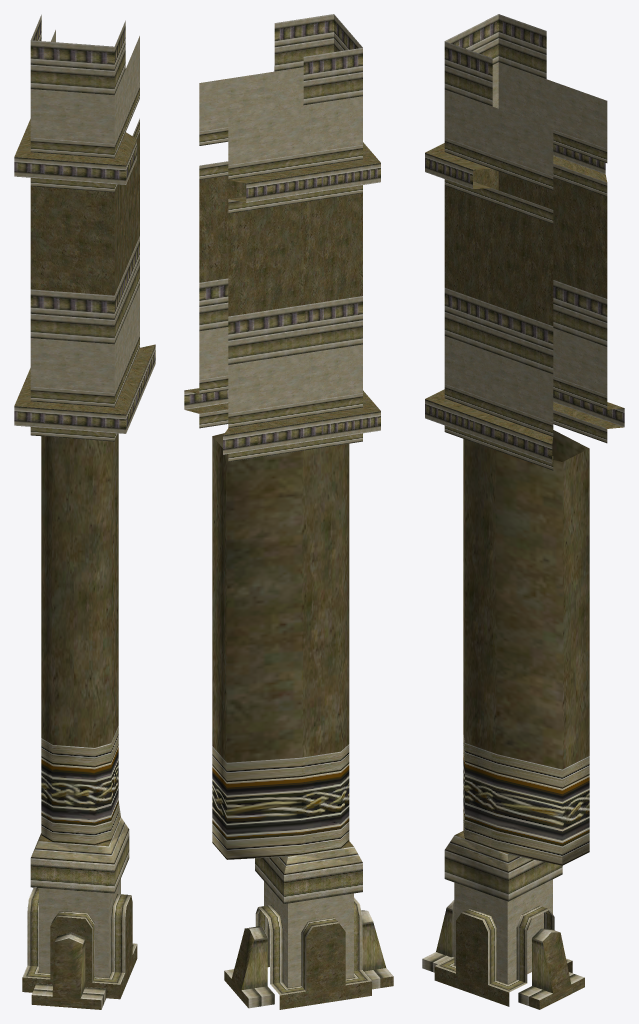
Rendered from CH09_SMAUG_PLAYSURFACE_LAIR65.fbx.
3 renders of one model, left to right at view 1: azimuth 30°, elevation 25°; view 2: azimuth 150°, elevation 25°; view 3: azimuth 270°, elevation 25°, orthographic.
Visible parts, largest first — view 1: CH09_SMAUG_PLAYSURFACE_LAIR65; view 2: CH09_SMAUG_PLAYSURFACE_LAIR65; view 3: CH09_SMAUG_PLAYSURFACE_LAIR65.
Part boxes in pixels (x1,y1,x2,y2): CH09_SMAUG_PLAYSURFACE_LAIR65: (14, 14, 155, 1009); CH09_SMAUG_PLAYSURFACE_LAIR65: (184, 14, 393, 1009); CH09_SMAUG_PLAYSURFACE_LAIR65: (422, 14, 624, 1009).
Bounding box in the file's own units: 50751 × 271667 × 53021.
Materials: 7 (7 with a texture image).
